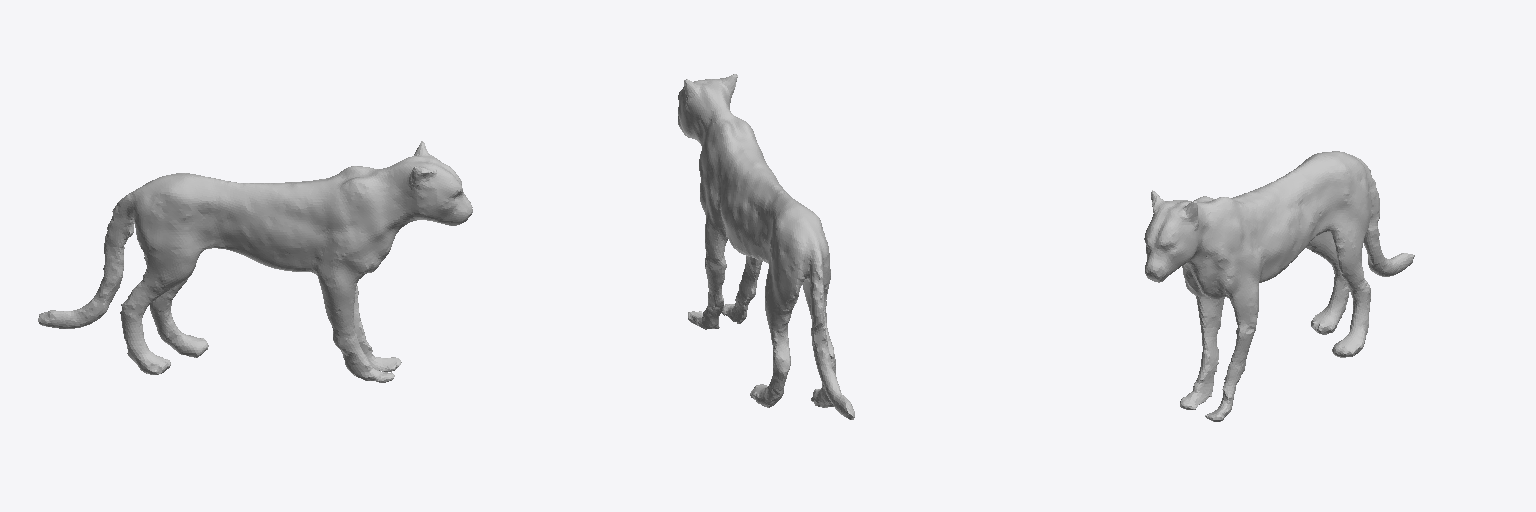
File: Jaguar.obj
3 renders of one model, left to right at view 1: azimuth 30°, elevation 25°; view 2: azimuth 150°, elevation 25°; view 3: azimuth 270°, elevation 25°, orthographic.
Visible parts, largest first — view 1: jaguar_Jaguar; view 2: jaguar_Jaguar; view 3: jaguar_Jaguar.
Boxes of the visible parts, box(x1,y1,x2,y2) form: jaguar_Jaguar: box(38, 141, 472, 382); jaguar_Jaguar: box(678, 74, 854, 419); jaguar_Jaguar: box(1144, 151, 1414, 421).
Bounding box in the file's own units: 2.24 × 1.62 × 1.73.